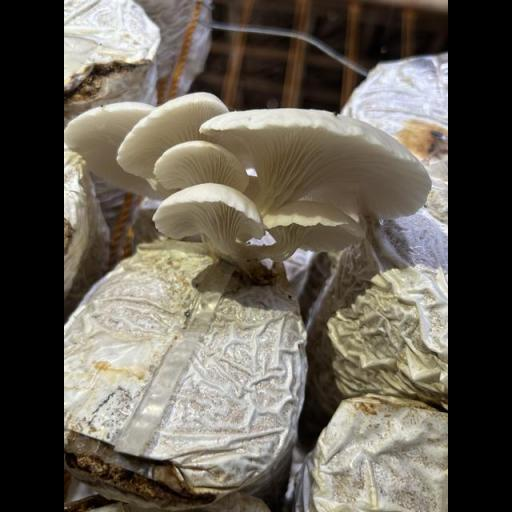White Oyster Mushroom: (64, 70, 442, 275)
